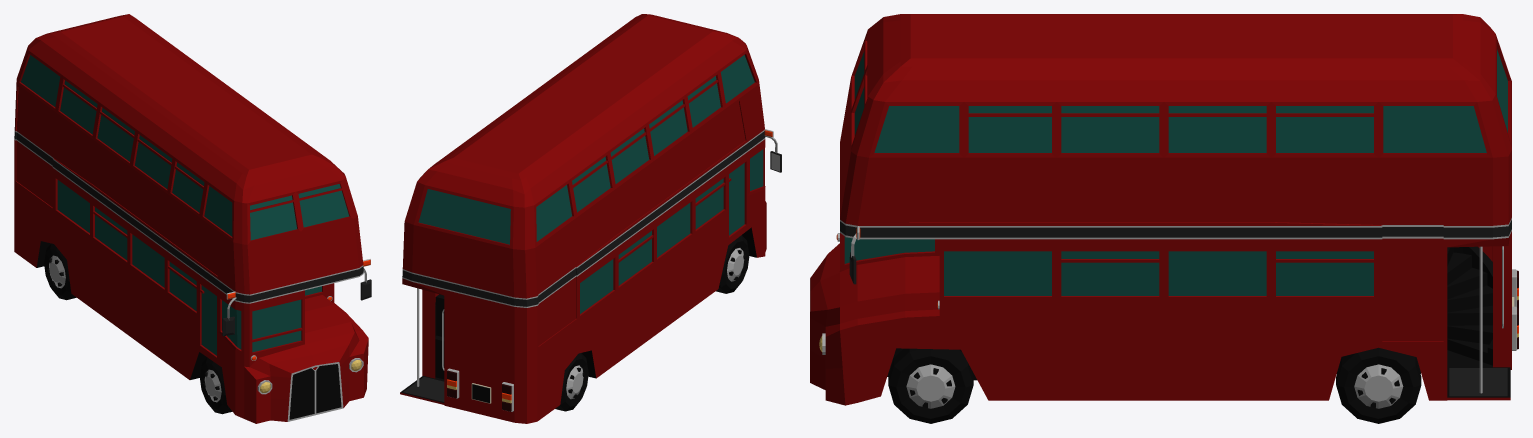
Rendered from LondonBus.FBX.
3 views of the same model, side by side, from view 1: azimuth 30°, elevation 25°; view 2: azimuth 150°, elevation 25°; view 3: azimuth 270°, elevation 25° (orthographic). The views are drawn at different scales.
Visible parts, largest first — view 1: LondonBus, wheel_f_r, wheels_b_r; view 2: LondonBus, wheel_f_r, wheels_b_r, interieur, tailLights; view 3: LondonBus, wheel_f_l, wheels_b_l, interieur.
Part boxes in pixels (left/top/right/bottom): LondonBus: left=14, top=14, right=368, bottom=423; wheel_f_r: left=199, top=357, right=232, bottom=414; wheels_b_r: left=44, top=243, right=76, bottom=300; LondonBus: left=400, top=14, right=766, bottom=423; wheel_f_r: left=716, top=235, right=749, bottom=293; wheels_b_r: left=555, top=353, right=588, bottom=411; interieur: left=435, top=293, right=444, bottom=379; tailLights: left=447, top=370, right=511, bottom=411; LondonBus: left=810, top=14, right=1514, bottom=405; wheel_f_l: left=888, top=348, right=973, bottom=423; wheels_b_l: left=1336, top=347, right=1421, bottom=423; interieur: left=839, top=246, right=1492, bottom=365.
Bounding box in the file's own units: 40.81 × 62.76 × 116.
